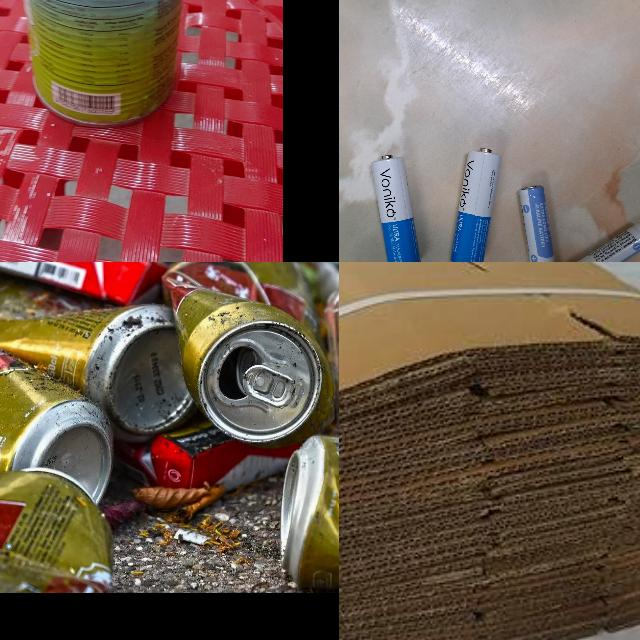aba de lata: (241, 364, 295, 408)
bateria: (450, 146, 500, 262), (370, 154, 422, 262), (558, 222, 640, 262), (519, 185, 557, 262)
lata: (0, 272, 205, 441), (159, 262, 336, 447), (0, 322, 119, 529), (16, 0, 190, 132), (0, 468, 117, 593), (278, 436, 339, 594)
papelão: (339, 262, 640, 640)
